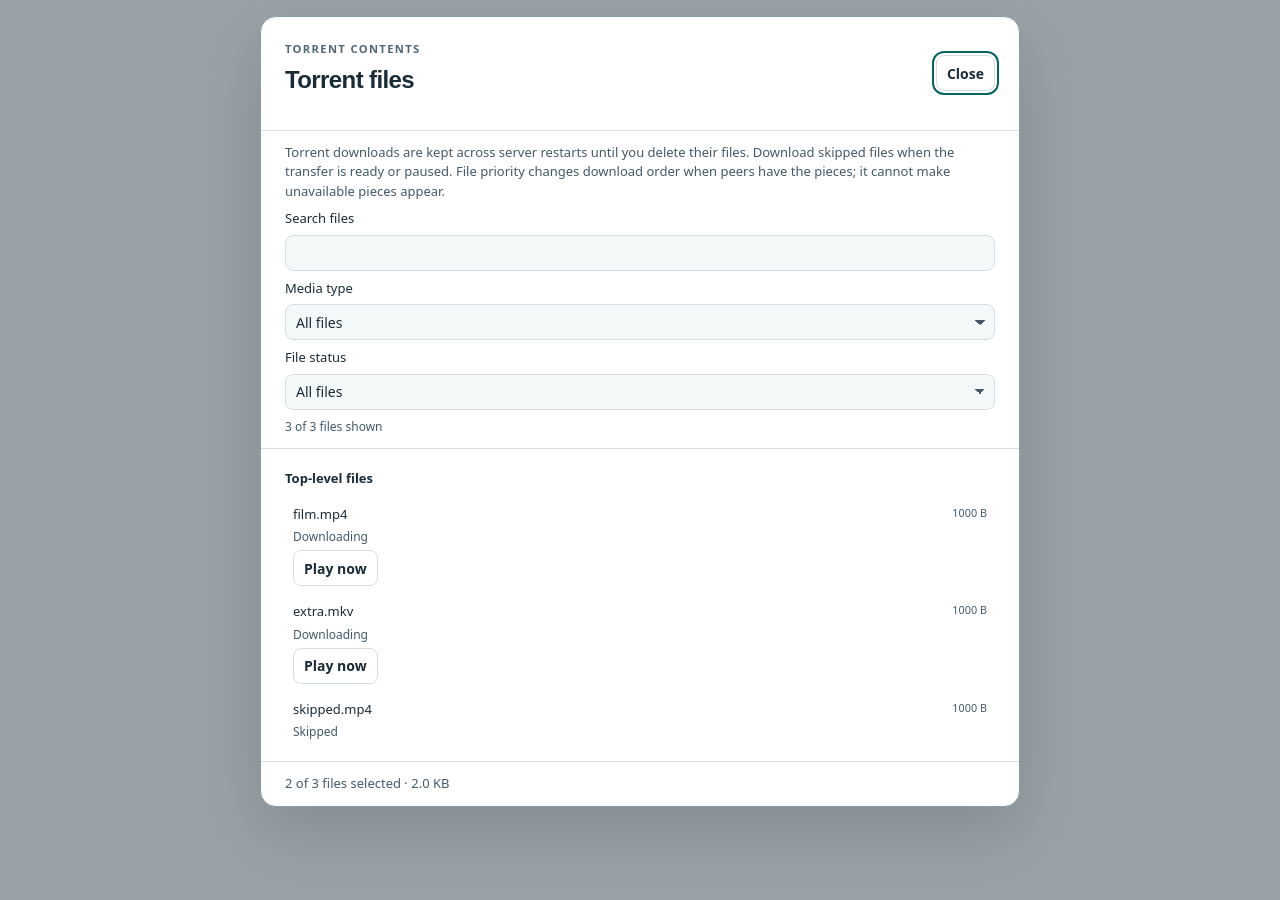
Test case: torrent early video › shows fallback without opening a stream and retries failed metadata
Click the button with aria-label "Play now: extra.mkv".
click(335, 666)  # box [293,648,378,684]
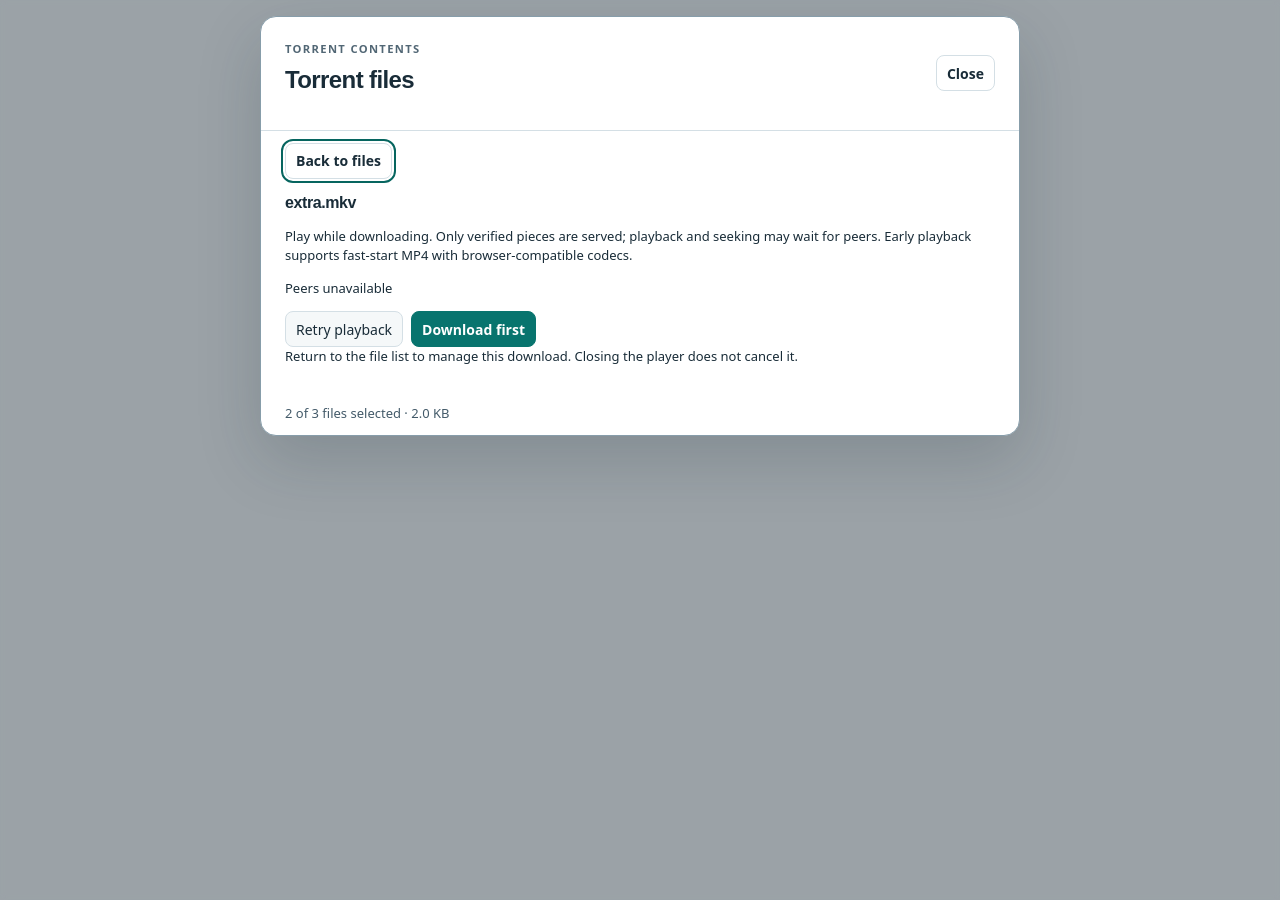
Now the message "Peers unavailable" is shown, box [285,279,392,297]
Click the button "Retry playback".
click(344, 329)  # box [285,311,403,347]
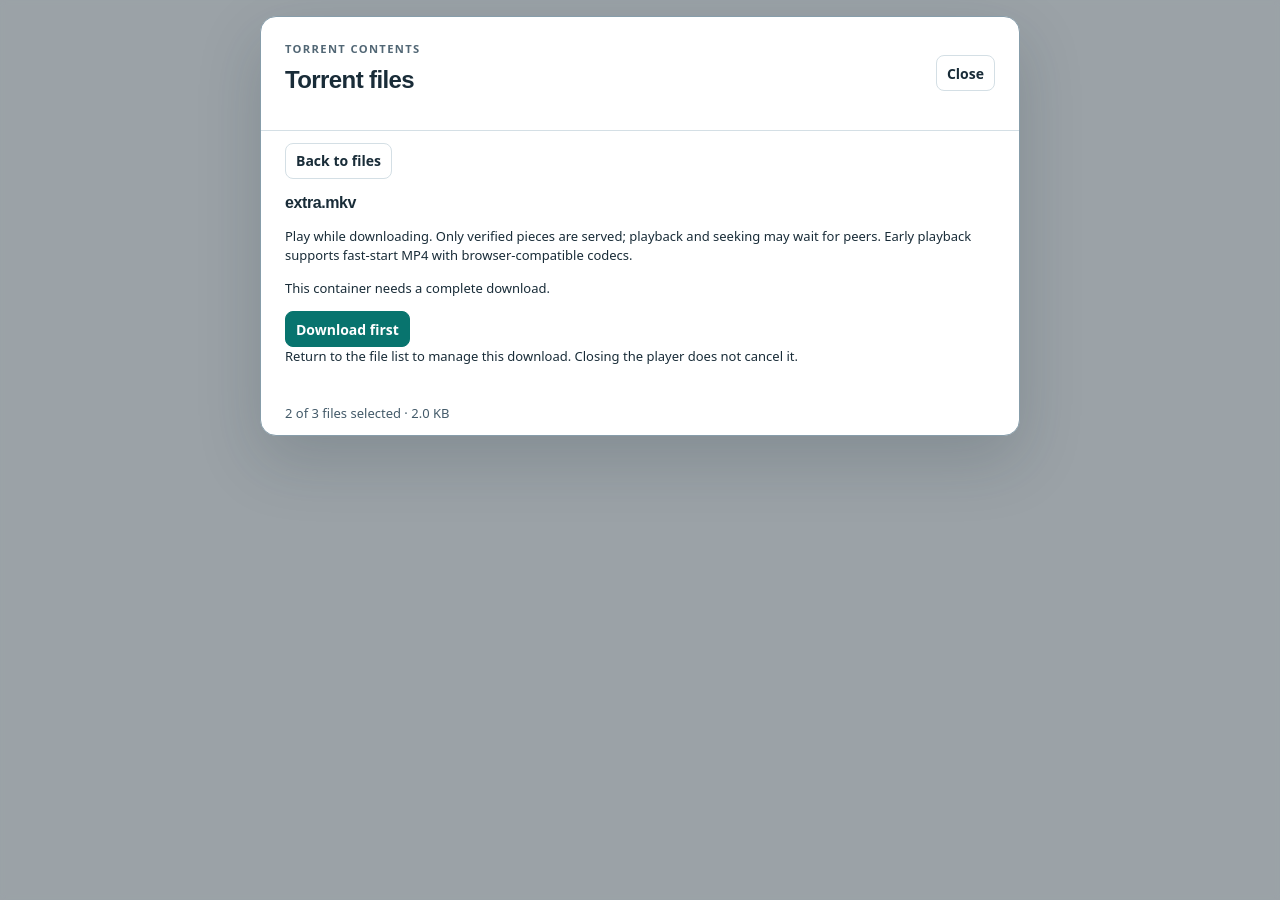
Now the text "This container needs a complete download." is shown, box [285,279,550,297]
